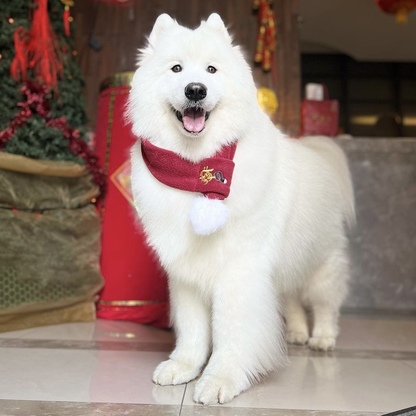samoyed: (118, 8, 364, 410)
